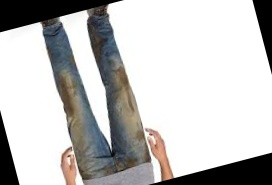earth: (54, 76, 77, 117), (116, 67, 136, 111), (85, 23, 105, 63), (137, 131, 150, 161), (125, 157, 135, 168)
